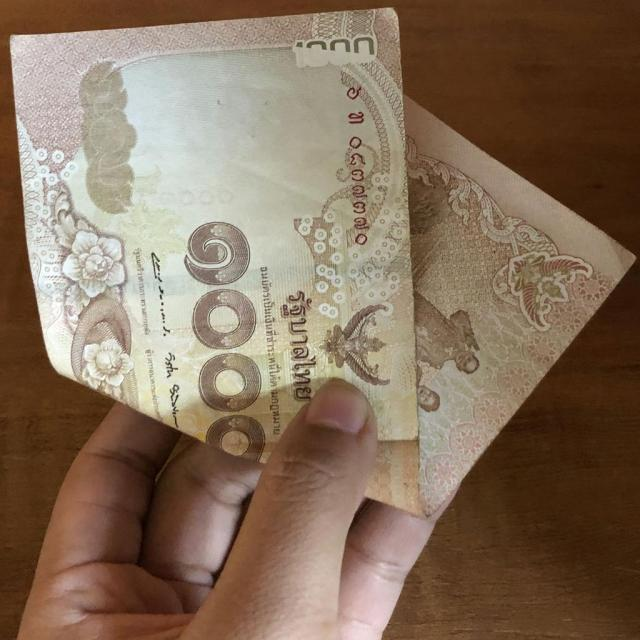THAI1000: (9, 8, 635, 522)
